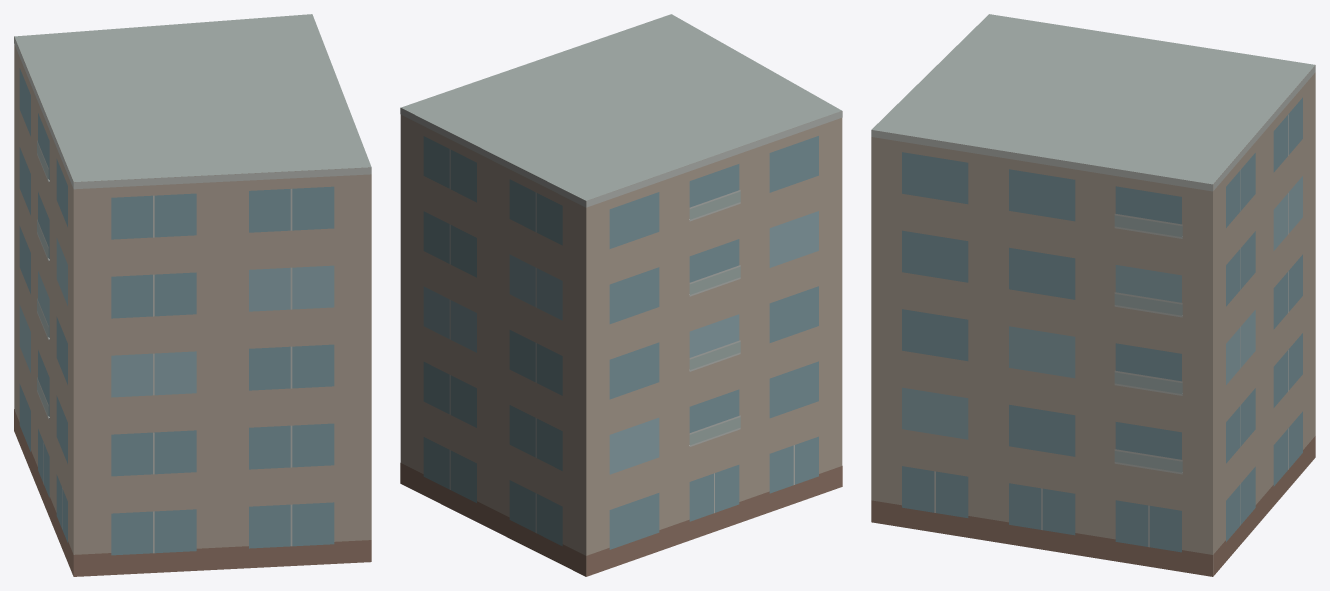
Rendered from survey-upis-32902098.glb.
3 views of the same model, side by side, from view 1: azimuth 30°, elevation 25°; view 2: azimuth 150°, elevation 25°; view 3: azimuth 270°, elevation 25° (orthographic). The views are drawn at different scales.
Visible parts, largest first — view 1: survey-upis-32902098.tmp; view 2: survey-upis-32902098.tmp; view 3: survey-upis-32902098.tmp.
Boxes of the visible parts, bbox=[...] form: survey-upis-32902098.tmp: bbox=[14, 14, 371, 576]; survey-upis-32902098.tmp: bbox=[400, 14, 842, 576]; survey-upis-32902098.tmp: bbox=[871, 14, 1315, 576].
Bounding box in the file's own units: 12.58 × 13.5 × 13.86.
